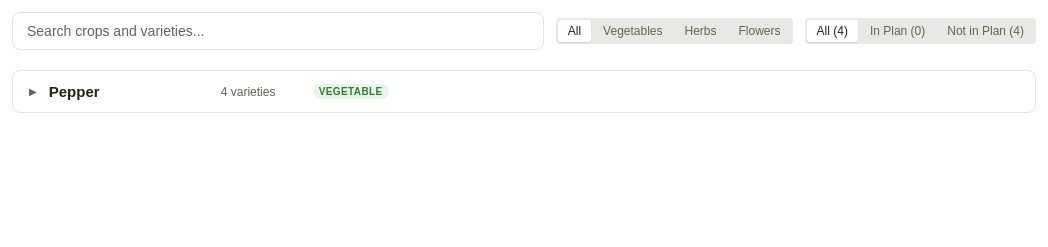
Scenario: LibraryView › nested crop families › shows sub-group headers when family is expanded
This screenshot has width=1048, height=247.
Expected: the text "Bell" is not shown
# Expand the Pepper family
Click the text "Pepper".
click(74, 92)  # box [49,83,100,100]
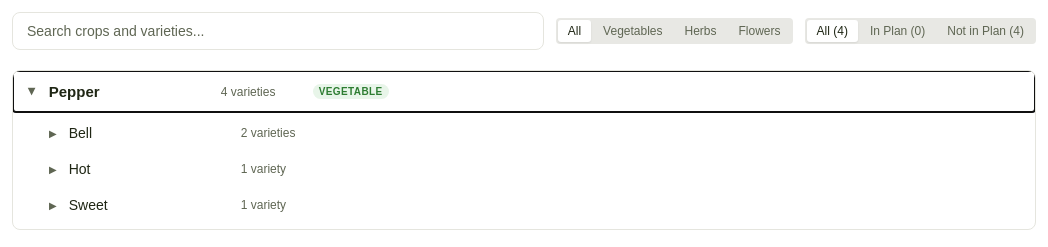
Expected: the text "Bell" is shown, [69,125,92,141]
Expected: the text "Hot" is shown, [69,161,90,177]
Expected: the text "Sweet" is shown, [69,197,108,213]
